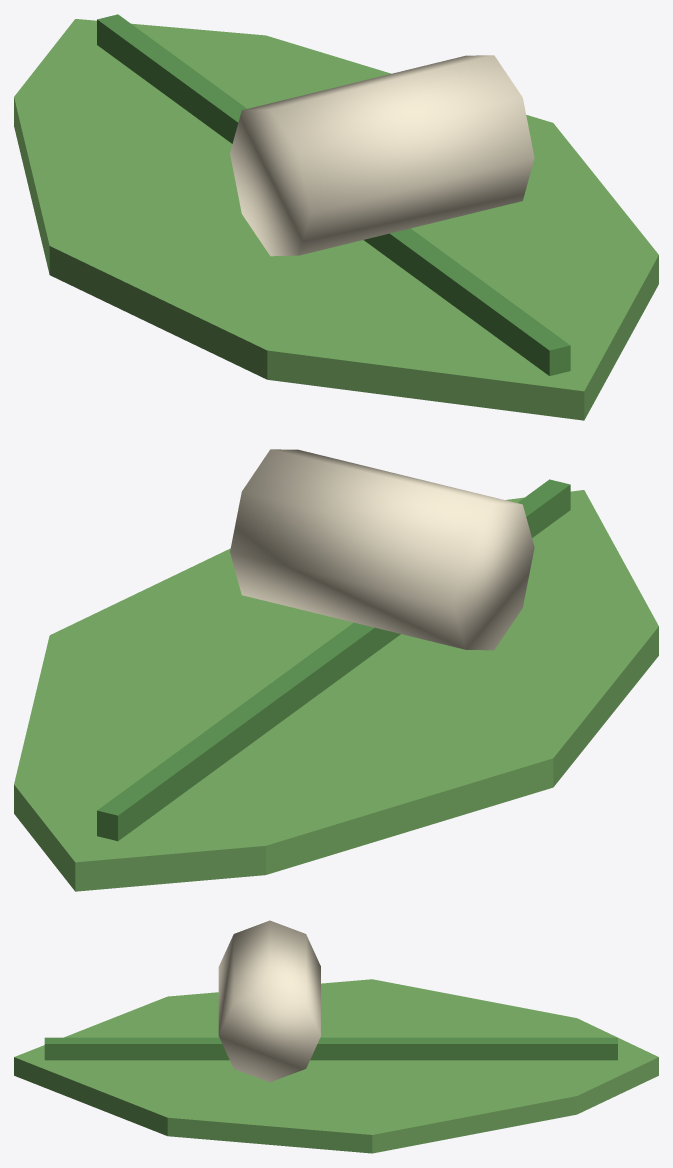
File: xy_item_leafnote.glb
3 renders of one model, top to bottom at view 1: azimuth 30°, elevation 25°; view 2: azimuth 150°, elevation 25°; view 3: azimuth 270°, elevation 25°, orthographic. The views are drawn at different scales.
Parts seen in each view (by area): view 1: xy_item_leafnote; view 2: xy_item_leafnote; view 3: xy_item_leafnote.
Boxes of the visible parts, box(x1,y1,x2,y2) form: xy_item_leafnote: box(14, 14, 658, 420); xy_item_leafnote: box(14, 449, 658, 891); xy_item_leafnote: box(14, 920, 658, 1153).
Size of the model in its own units: 0.36 by 0.13 by 0.63.
